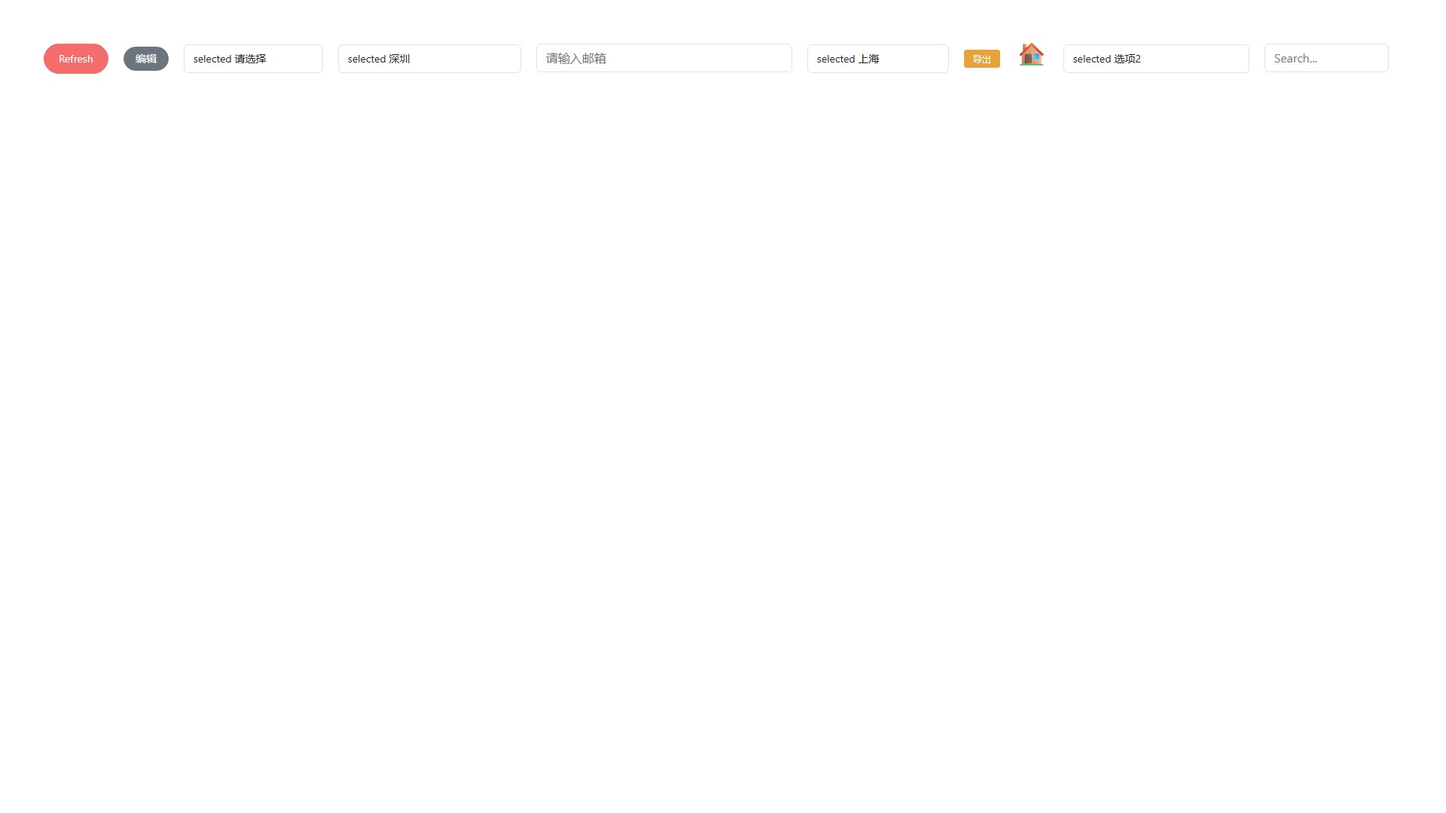button: (44, 44, 108, 74), (123, 47, 168, 71), (964, 50, 1000, 68)
icon: (1015, 41, 1048, 65)
input: (536, 43, 792, 72), (1264, 43, 1389, 72)
select: (1063, 44, 1249, 73), (338, 44, 521, 73), (807, 44, 949, 73), (184, 44, 323, 73)
